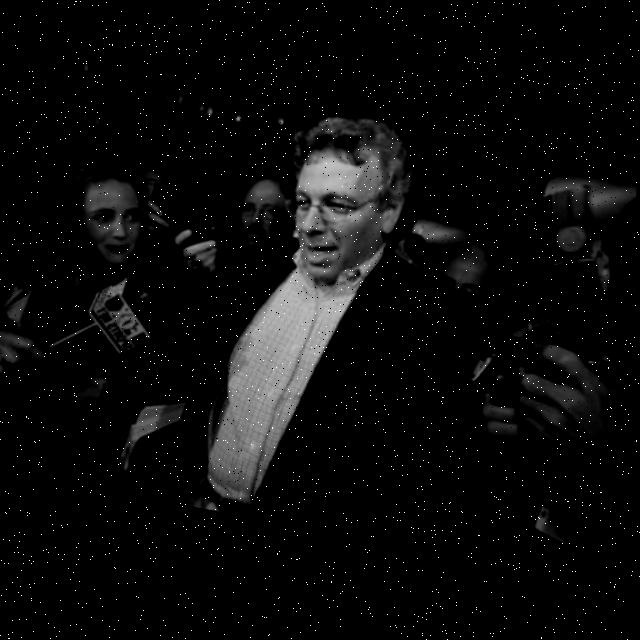face: (277, 155, 408, 290), (55, 171, 159, 273), (576, 213, 636, 356), (426, 233, 504, 318), (219, 174, 294, 256)
